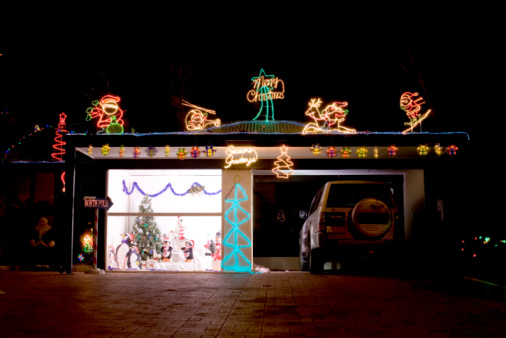car: (291, 176, 409, 281)
